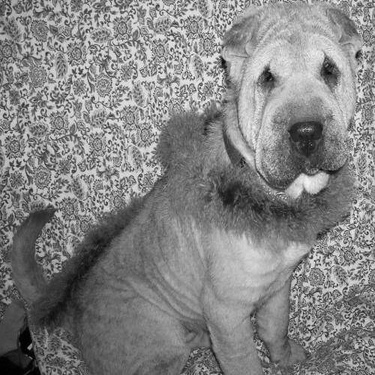dog: (8, 2, 370, 371)
